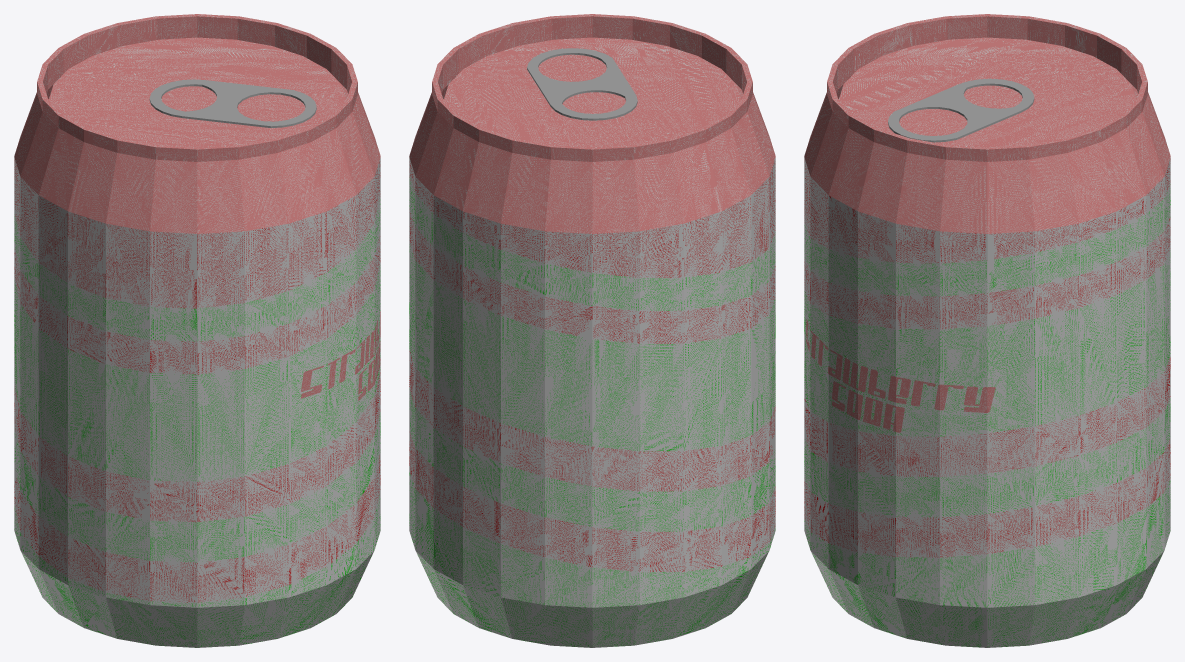
3 renders of one model, left to right at view 1: azimuth 30°, elevation 25°; view 2: azimuth 150°, elevation 25°; view 3: azimuth 270°, elevation 25°, orthographic.
Visible parts, largest first — view 1: mesh1_mesh1-geometry; view 2: mesh1_mesh1-geometry; view 3: mesh1_mesh1-geometry.
Part boxes in pixels (x1,y1,x2,y2): mesh1_mesh1-geometry: (14, 14, 380, 647); mesh1_mesh1-geometry: (409, 14, 775, 647); mesh1_mesh1-geometry: (804, 14, 1170, 647).
Bounding box in the file's own units: 0.4851 × 0.7276 × 0.4851.
